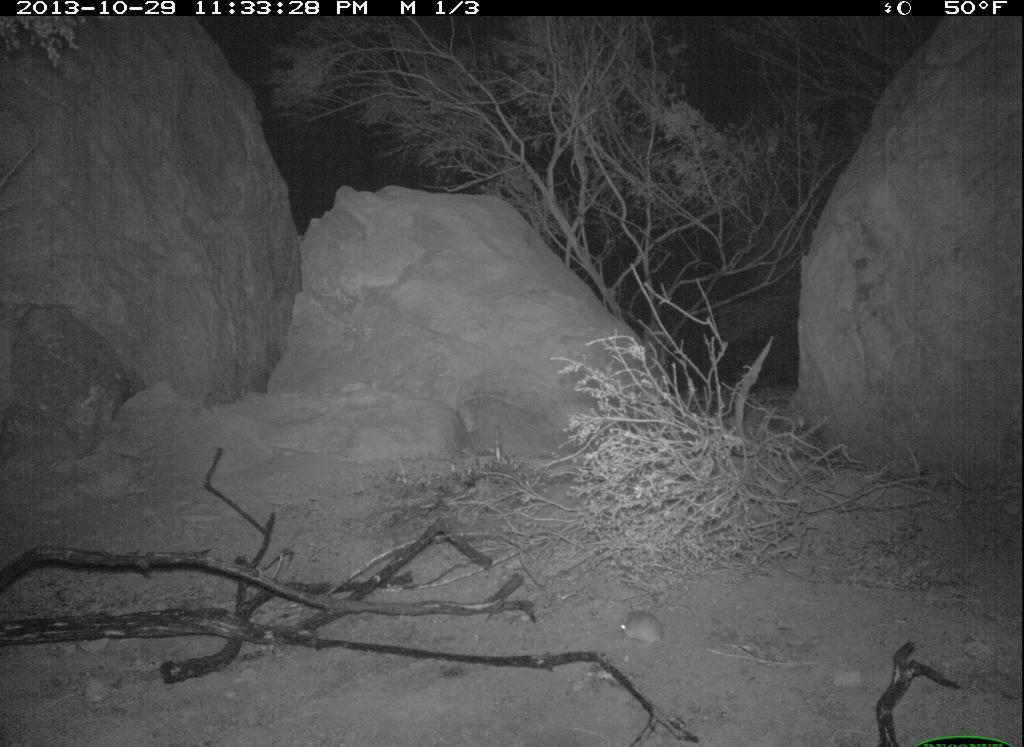rodent: (609, 606, 678, 656)
